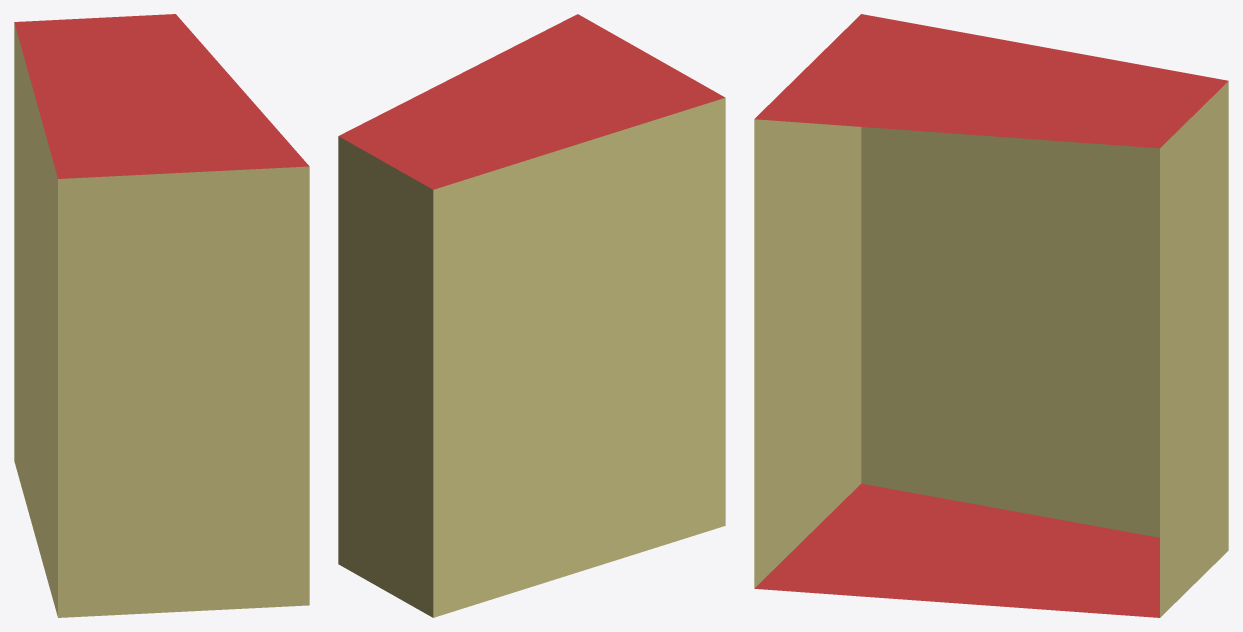
The picture shows the model from 3 angles, left to right: view 1: azimuth 30°, elevation 25°; view 2: azimuth 150°, elevation 25°; view 3: azimuth 270°, elevation 25°; orthographic projection. The views are drawn at different scales.
Parts seen in each view (by area): view 1: group_4, group_3; view 2: group_4, group_3; view 3: group_4, group_3, group_5.
Boxes of the visible parts, left/top/right/bottom form: group_4: left=14, top=23, right=309, bottom=617; group_3: left=14, top=14, right=309, bottom=178; group_4: left=338, top=98, right=725, bottom=617; group_3: left=338, top=14, right=725, bottom=189; group_4: left=754, top=81, right=1228, bottom=617; group_3: left=754, top=14, right=1228, bottom=148; group_5: left=754, top=483, right=1159, bottom=617.
Bounding box in the file's own units: 6.79 × 10.13 × 11.06.
